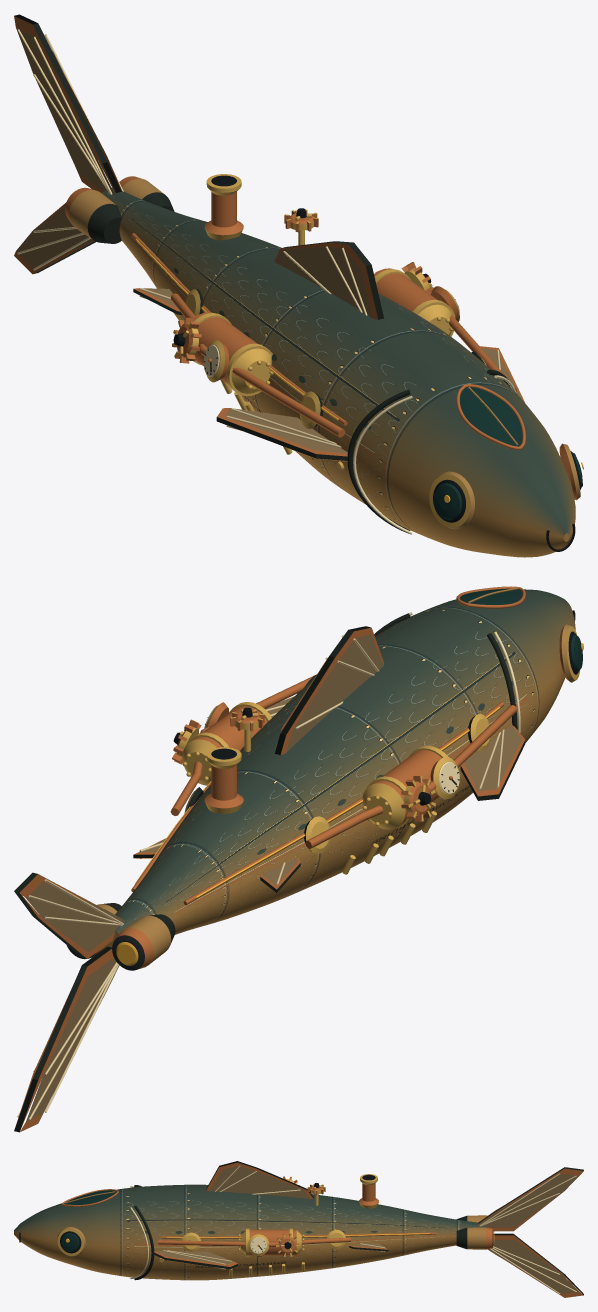
3 views of the same model, one above another, from view 1: azimuth 30°, elevation 25°; view 2: azimuth 150°, elevation 25°; view 3: azimuth 270°, elevation 25° (orthographic). The views are drawn at different scales.
Visible parts, largest first — view 1: sardine_hull; view 2: sardine_hull; view 3: sardine_hull.
Boxes of the visible parts, x1,y1,x2,y2 form: sardine_hull: (14, 14, 583, 557); sardine_hull: (14, 586, 583, 1132); sardine_hull: (14, 1161, 583, 1297).
Bounding box in the file's own units: 4.8 × 4.25 × 16.2.
1 material, 1 textured.
